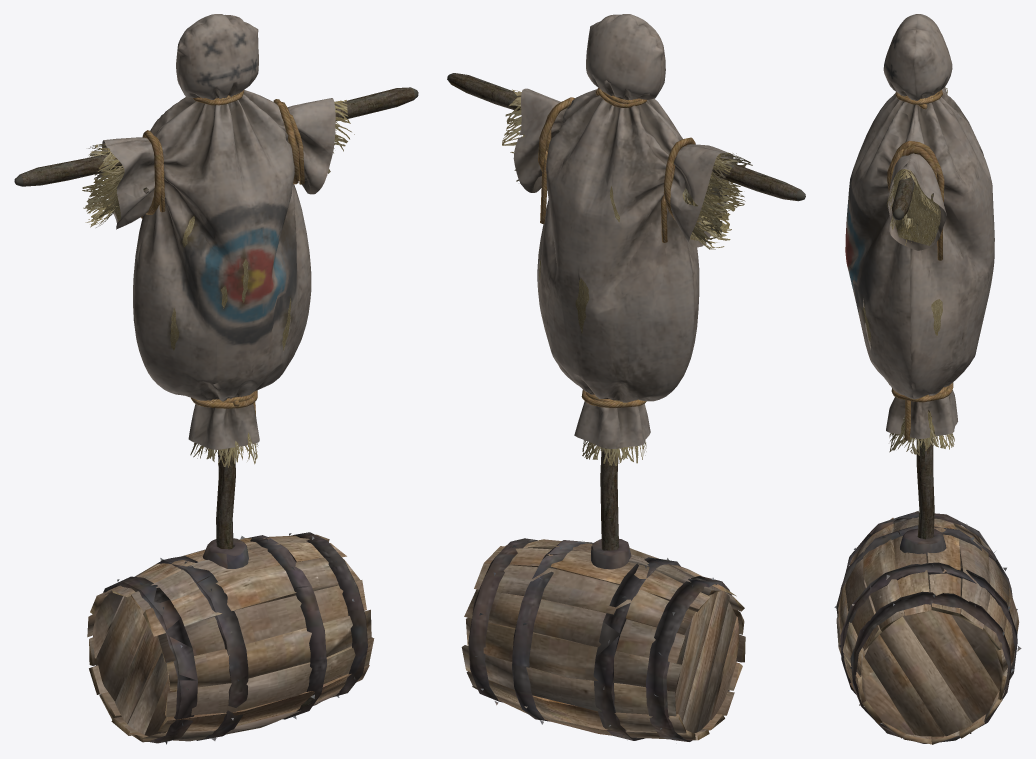
The model's file is cargo_training_dummy.glb.
3 views of the same model, side by side, from view 1: azimuth 30°, elevation 25°; view 2: azimuth 150°, elevation 25°; view 3: azimuth 270°, elevation 25° (orthographic). The views are drawn at different scales.
Visible parts, largest first — view 1: KB3D_ENC_PropTranningDummy_D, KB3D_ENC_PropTranningDummyBase_C; view 2: KB3D_ENC_PropTranningDummy_D, KB3D_ENC_PropTranningDummyBase_C; view 3: KB3D_ENC_PropTranningDummy_D, KB3D_ENC_PropTranningDummyBase_C.
Boxes of the visible parts, box(x1,y1,x2,y2) form: KB3D_ENC_PropTranningDummy_D: box(14, 14, 418, 568); KB3D_ENC_PropTranningDummyBase_C: box(87, 532, 374, 744); KB3D_ENC_PropTranningDummy_D: box(447, 14, 805, 569); KB3D_ENC_PropTranningDummyBase_C: box(461, 538, 745, 741); KB3D_ENC_PropTranningDummy_D: box(845, 14, 994, 555); KB3D_ENC_PropTranningDummyBase_C: box(834, 511, 1021, 744).
Bounding box in the file's own units: 0.85 × 1.53 × 0.3772.
Materials: 8 (8 with a texture image).
